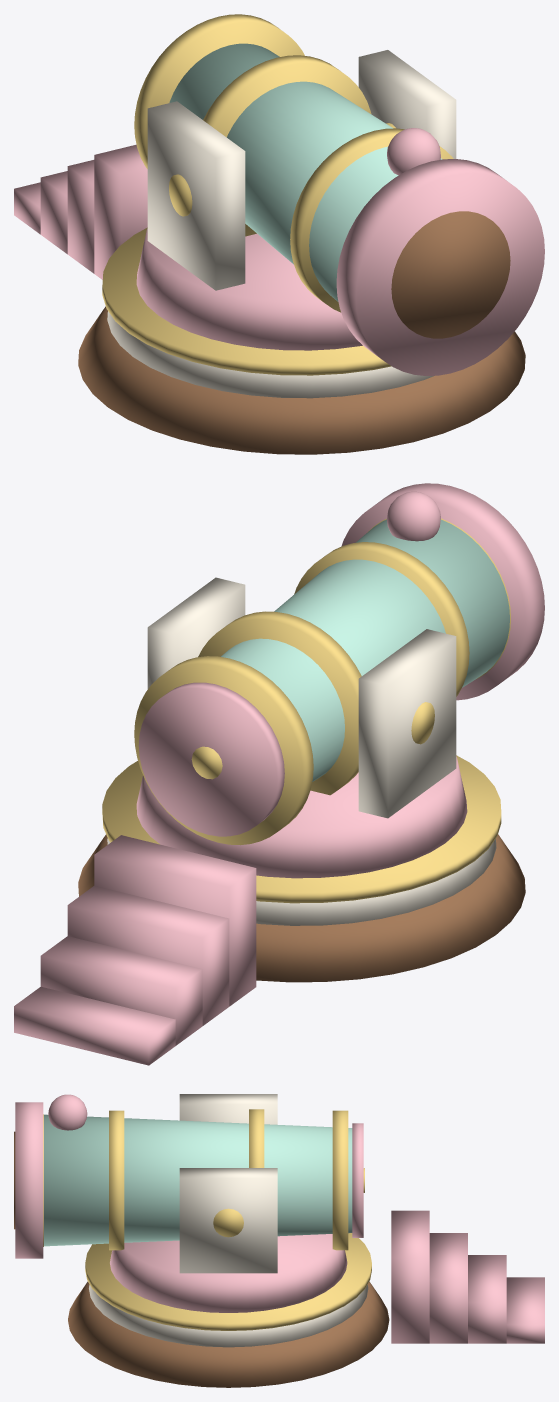
File: HOB_SkyCannon.fbx
The picture shows the model from 3 angles, top to bottom: view 1: azimuth 30°, elevation 25°; view 2: azimuth 150°, elevation 25°; view 3: azimuth 270°, elevation 25°; orthographic projection. The views are drawn at different scales.
Parts seen in each view (by area): view 1: SkyCannon_Base, SkyCannon_Muzzle, SkyCannon_Tube, SkyCannon_Turret, SkyCannon_CheekL, SkyCannon_Bore, SkyCannon_BaseBand, SkyCannon_BaseTop, SkyCannon_Ring1.6, SkyCannon_CheekR, SkyCannon_Step3, SkyCannon_Ring0.4 (+6 smaller); view 2: SkyCannon_Tube, SkyCannon_Base, SkyCannon_Turret, SkyCannon_HatchLid, SkyCannon_CheekL, SkyCannon_BaseBand, SkyCannon_Step3, SkyCannon_Step2, SkyCannon_Muzzle, SkyCannon_Step1, SkyCannon_Ring1.6, SkyCannon_Step0 (+7 smaller); view 3: SkyCannon_Tube, SkyCannon_Base, SkyCannon_Turret, SkyCannon_CheekR, SkyCannon_BaseBand, SkyCannon_Step3, SkyCannon_BaseTop, SkyCannon_Muzzle, SkyCannon_Step2, SkyCannon_Step1, SkyCannon_CheekL, SkyCannon_Step0 (+6 smaller).
Part boxes in pixels (x1=…): SkyCannon_Base: x1=78, y1=306, x2=525, y2=454; SkyCannon_Muzzle: x1=336, y1=159, x2=544, y2=375; SkyCannon_Tube: x1=169, y1=43, x2=442, y2=301; SkyCannon_Turret: x1=136, y1=228, x2=362, y2=350; SkyCannon_CheekL: x1=147, y1=101, x2=245, y2=290; SkyCannon_Bore: x1=391, y1=211, x2=510, y2=338; SkyCannon_BaseBand: x1=102, y1=227, x2=391, y2=375; SkyCannon_BaseTop: x1=107, y1=311, x2=434, y2=398; SkyCannon_Ring1.6: x1=134, y1=14, x2=304, y2=168; SkyCannon_CheekR: x1=358, y1=50, x2=456, y2=158; SkyCannon_Step3: x1=94, y1=144, x2=147, y2=279; SkyCannon_Ring0.4: x1=203, y1=55, x2=371, y2=236; SkyCannon_Tube: x1=221, y1=519, x2=509, y2=781; SkyCannon_Base: x1=78, y1=834, x2=525, y2=982; SkyCannon_Turret: x1=136, y1=756, x2=467, y2=878; SkyCannon_HatchLid: x1=138, y1=682, x2=284, y2=836; SkyCannon_CheekL: x1=358, y1=629, x2=456, y2=818; SkyCannon_BaseBand: x1=102, y1=755, x2=501, y2=903; SkyCannon_Step3: x1=94, y1=835, x2=256, y2=1006; SkyCannon_Step2: x1=67, y1=885, x2=229, y2=1025; SkyCannon_Muzzle: x1=341, y1=483, x2=544, y2=700; SkyCannon_Step1: x1=40, y1=936, x2=202, y2=1045; SkyCannon_Ring1.6: x1=134, y1=656, x2=313, y2=845; SkyCannon_Step0: x1=14, y1=986, x2=175, y2=1065; SkyCannon_Tube: x1=44, y1=1114, x2=352, y2=1246; SkyCannon_Base: x1=68, y1=1281, x2=389, y2=1387; SkyCannon_Turret: x1=110, y1=1234, x2=347, y2=1312; SkyCannon_CheekR: x1=179, y1=1168, x2=277, y2=1273; SkyCannon_BaseBand: x1=85, y1=1233, x2=371, y2=1330; SkyCannon_Step3: x1=391, y1=1210, x2=429, y2=1343; SkyCannon_BaseTop: x1=89, y1=1285, x2=368, y2=1347; SkyCannon_Muzzle: x1=15, y1=1102, x2=43, y2=1258; SkyCannon_Step2: x1=429, y1=1233, x2=467, y2=1343; SkyCannon_Step1: x1=468, y1=1255, x2=506, y2=1343; SkyCannon_CheekL: x1=179, y1=1094, x2=277, y2=1124; SkyCannon_Step0: x1=506, y1=1277, x2=544, y2=1343.
Bounding box in the file's own units: 460 × 353 × 759.
